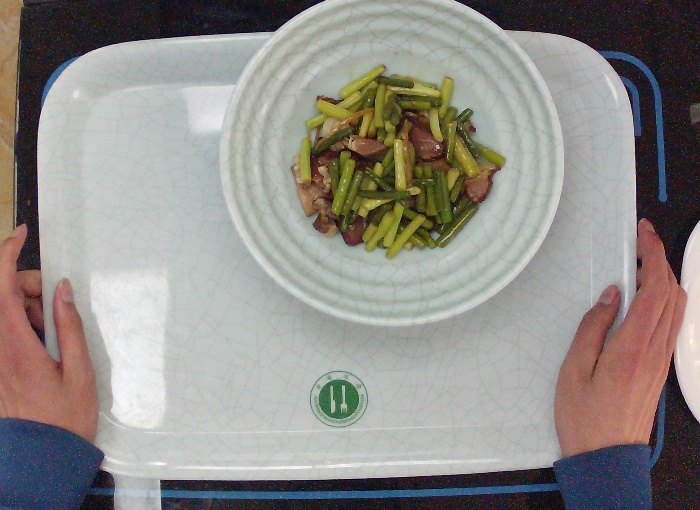JYsf-Da_Tang_Wan: (213, 1, 570, 335)
